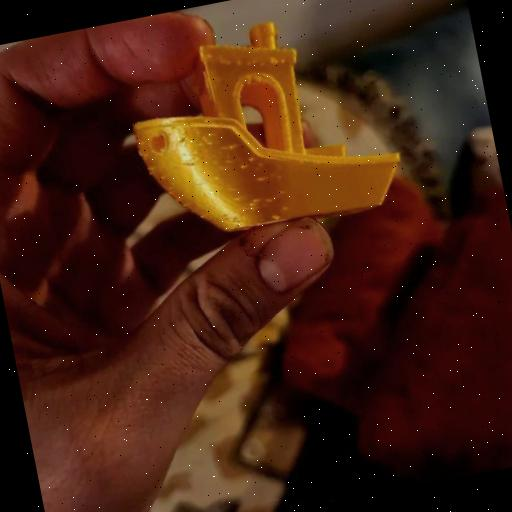blobs: (255, 158, 268, 170), (278, 186, 290, 198), (256, 174, 270, 184), (146, 164, 156, 178), (238, 162, 249, 173), (224, 142, 236, 152), (252, 194, 262, 206), (206, 128, 216, 140), (265, 195, 276, 204), (271, 212, 282, 221), (247, 154, 256, 164), (281, 202, 289, 212)
